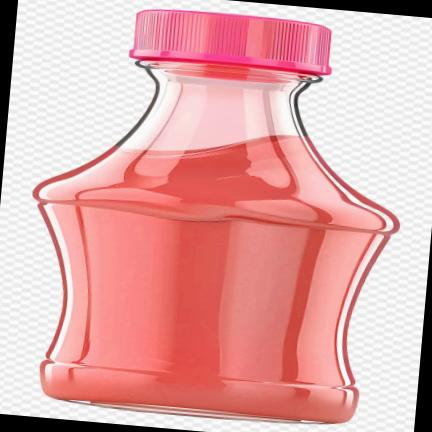container: (33, 60, 399, 423)
fluid: (36, 139, 389, 423)
fluid-surface: (118, 134, 305, 158)
